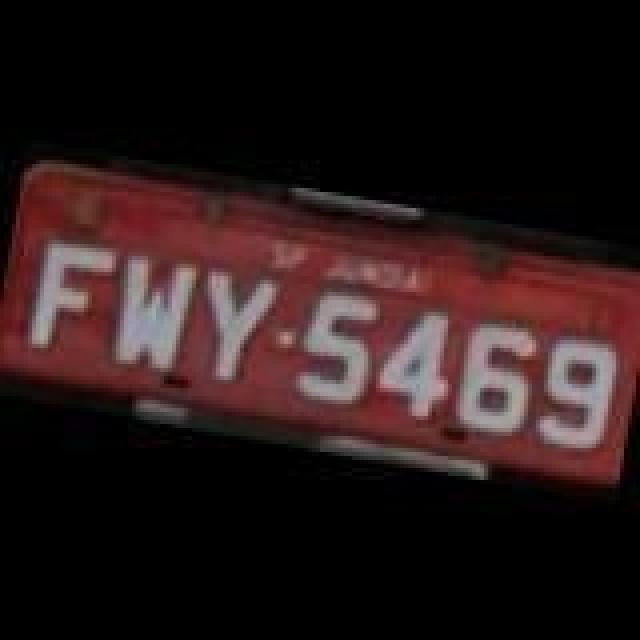4: (366, 298, 466, 422)
5: (290, 288, 390, 416)
6: (448, 314, 544, 446)
9: (528, 326, 624, 458)
F: (18, 232, 118, 360)
W: (104, 248, 200, 376)
Y: (188, 264, 276, 392)
